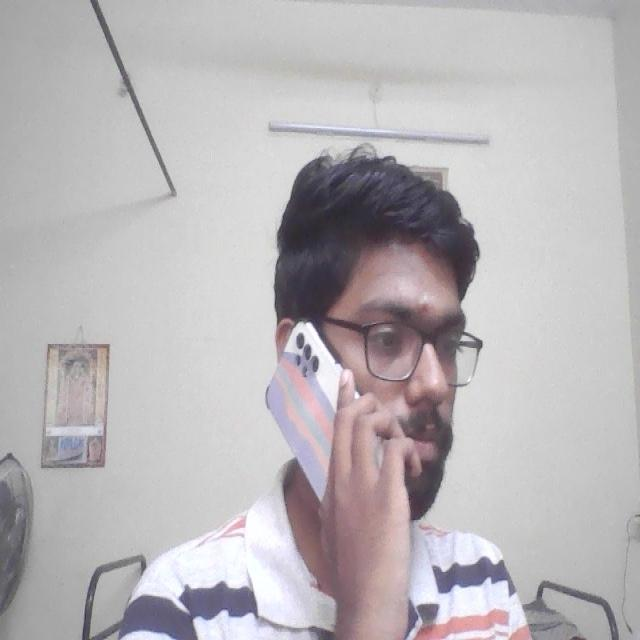Mobile: (256, 310, 363, 504)
